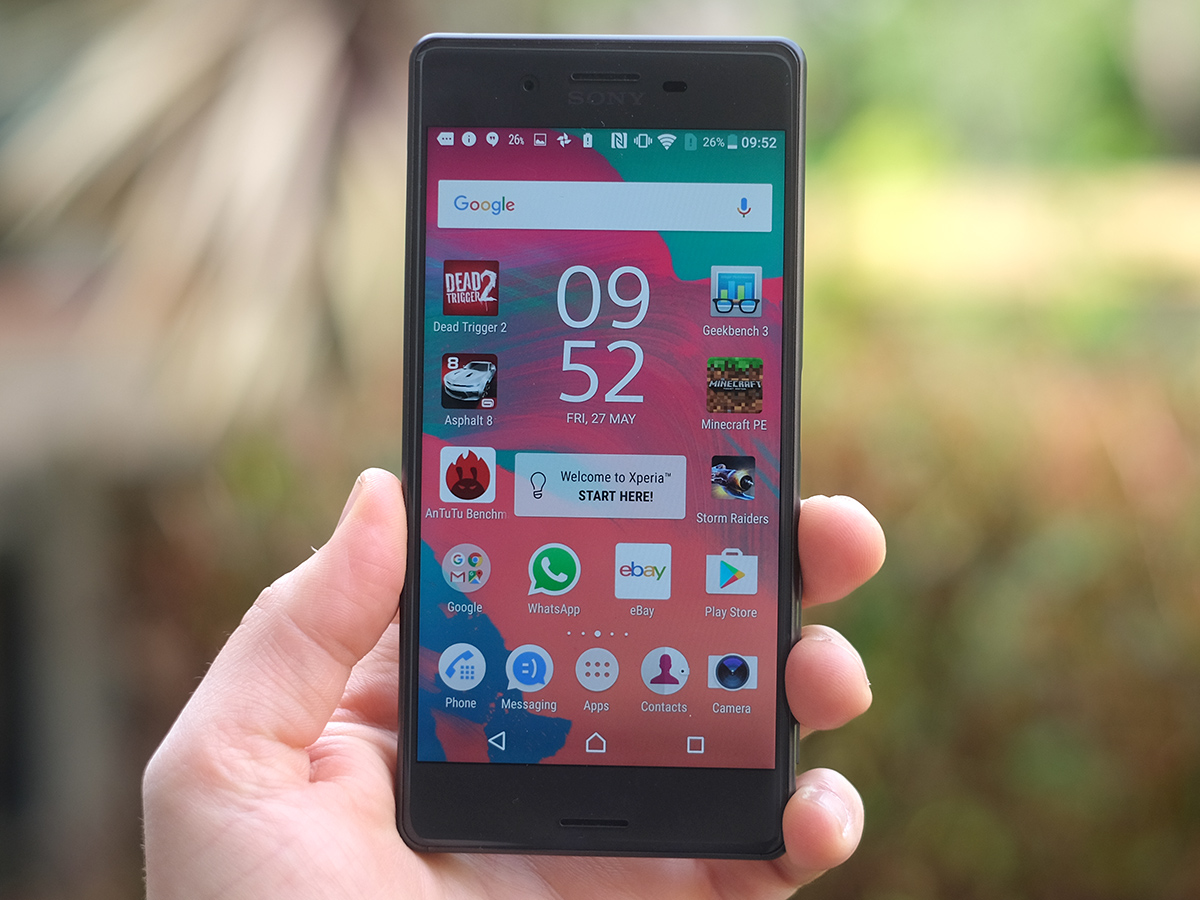smartphone: (394, 32, 808, 859)
